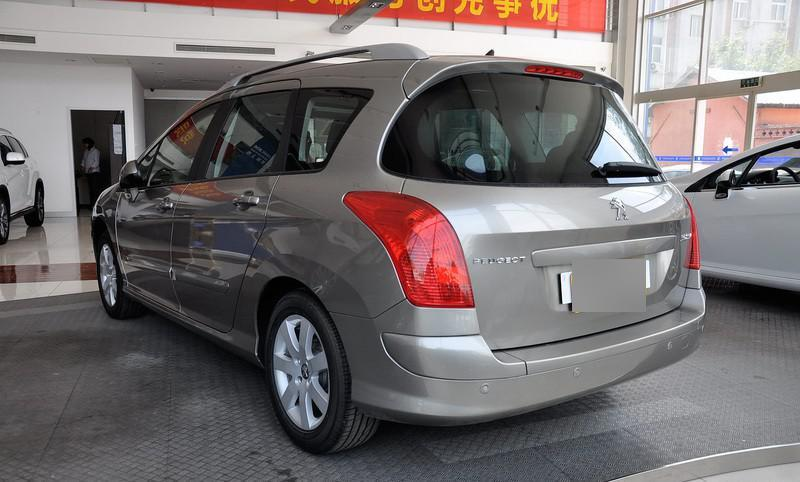Wagon: (90, 42, 707, 457)
